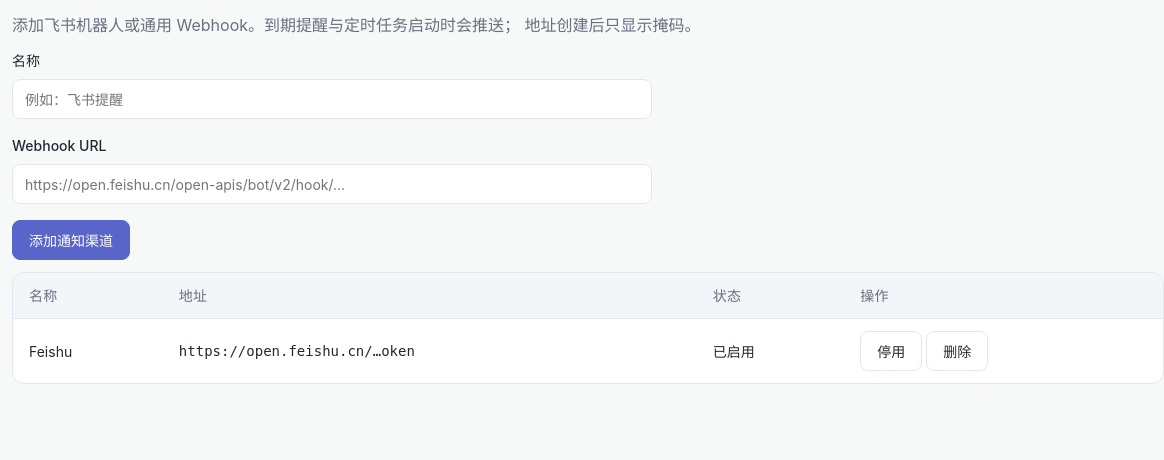
Test: NotificationChannels › explains an unsafe webhook URL
The width and height of the screenshot is (1164, 460).
Expected: the text "Feishu" is shown, [13,319,163,383]
Step 1. Type "Bad" into the field labelled "名称" → (332, 99), box [12,79,652,119]
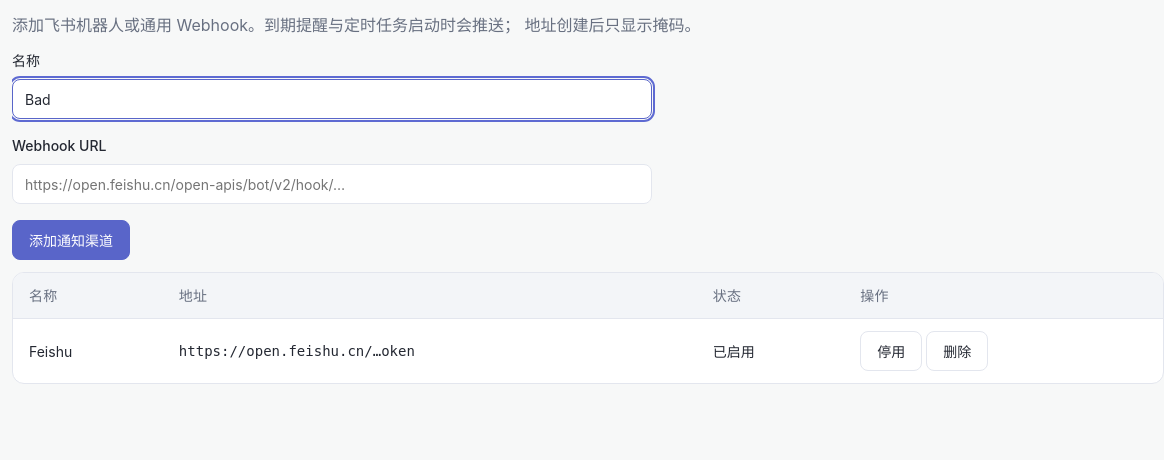
Step 2. Type "https://127.0.0.1/hook" into the field labelled "Webhook URL" → (332, 184), box [12,164,652,204]
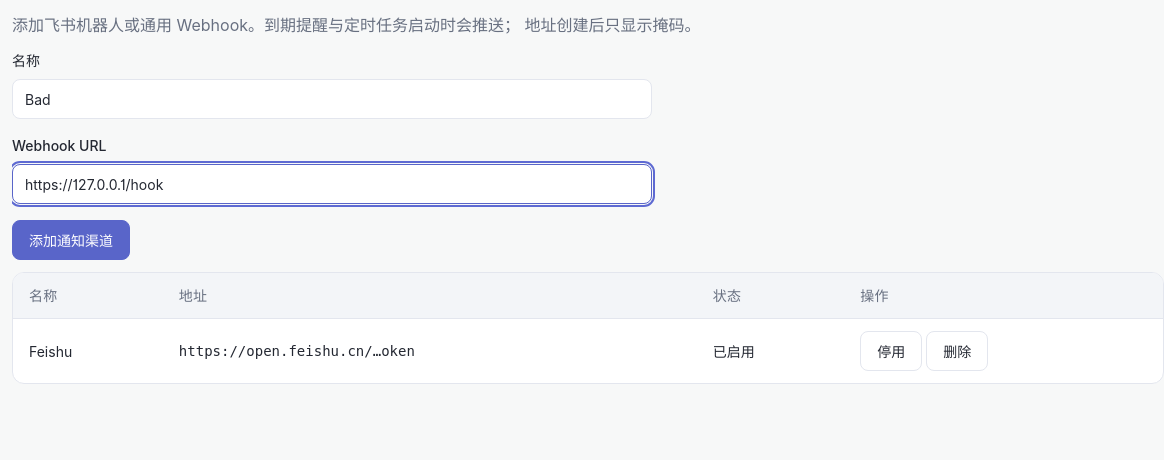
Step 3. Click the button "添加通知渠道" → (71, 240), box [12,220,130,260]
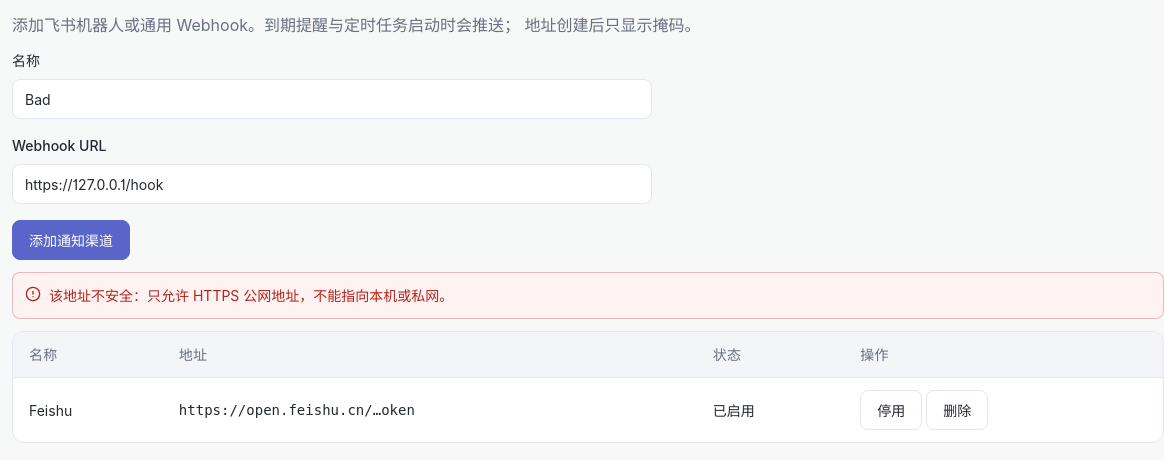
Expected: the text "该地址不安全：只允许 HTTPS 公网地址，不能指向本机或私网。" is shown, [49,287,453,304]
